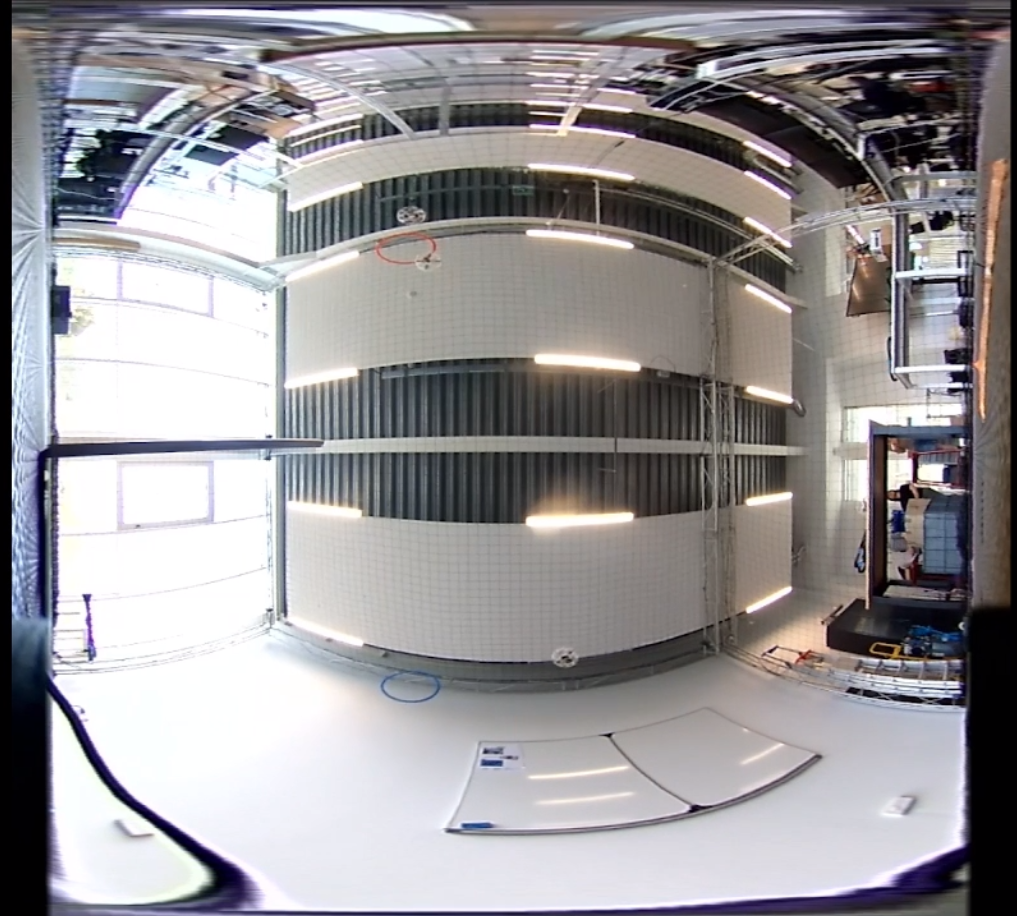Drone: (550, 647, 579, 668), (415, 252, 443, 273), (396, 207, 425, 225)
